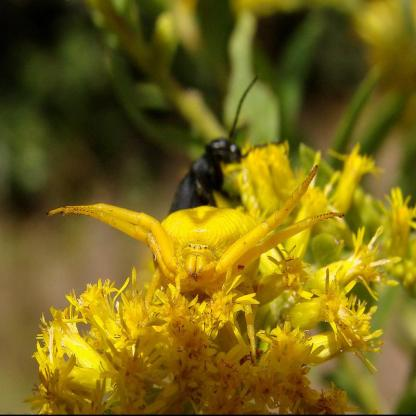beetle: (153, 104, 259, 221)
